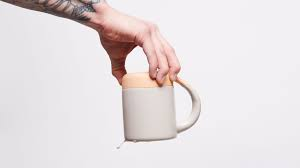mug: (105, 60, 210, 162)
